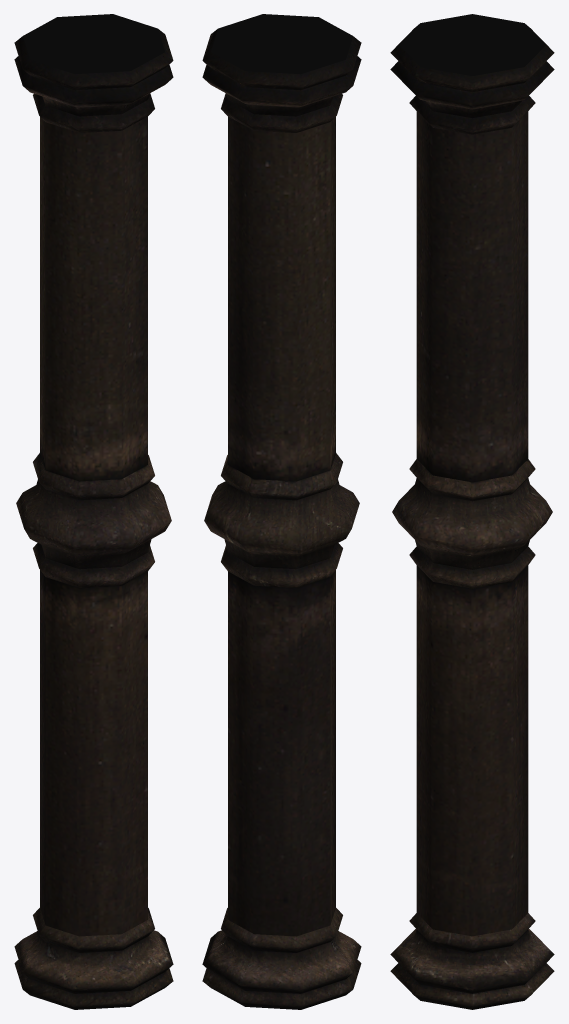
The model's file is pillar02.dae.
The picture shows the model from 3 angles, left to right: view 1: azimuth 30°, elevation 25°; view 2: azimuth 150°, elevation 25°; view 3: azimuth 270°, elevation 25°; orthographic projection.
Visible parts, largest first — view 1: pillar02; view 2: pillar02; view 3: pillar02.
Part boxes in pixels (box(x1,y1,x2,y2)): pillar02: box(14, 14, 173, 1009); pillar02: box(202, 14, 361, 1009); pillar02: box(390, 14, 554, 1009).
Bounding box in the file's own units: 0.638 × 4 × 0.638.
